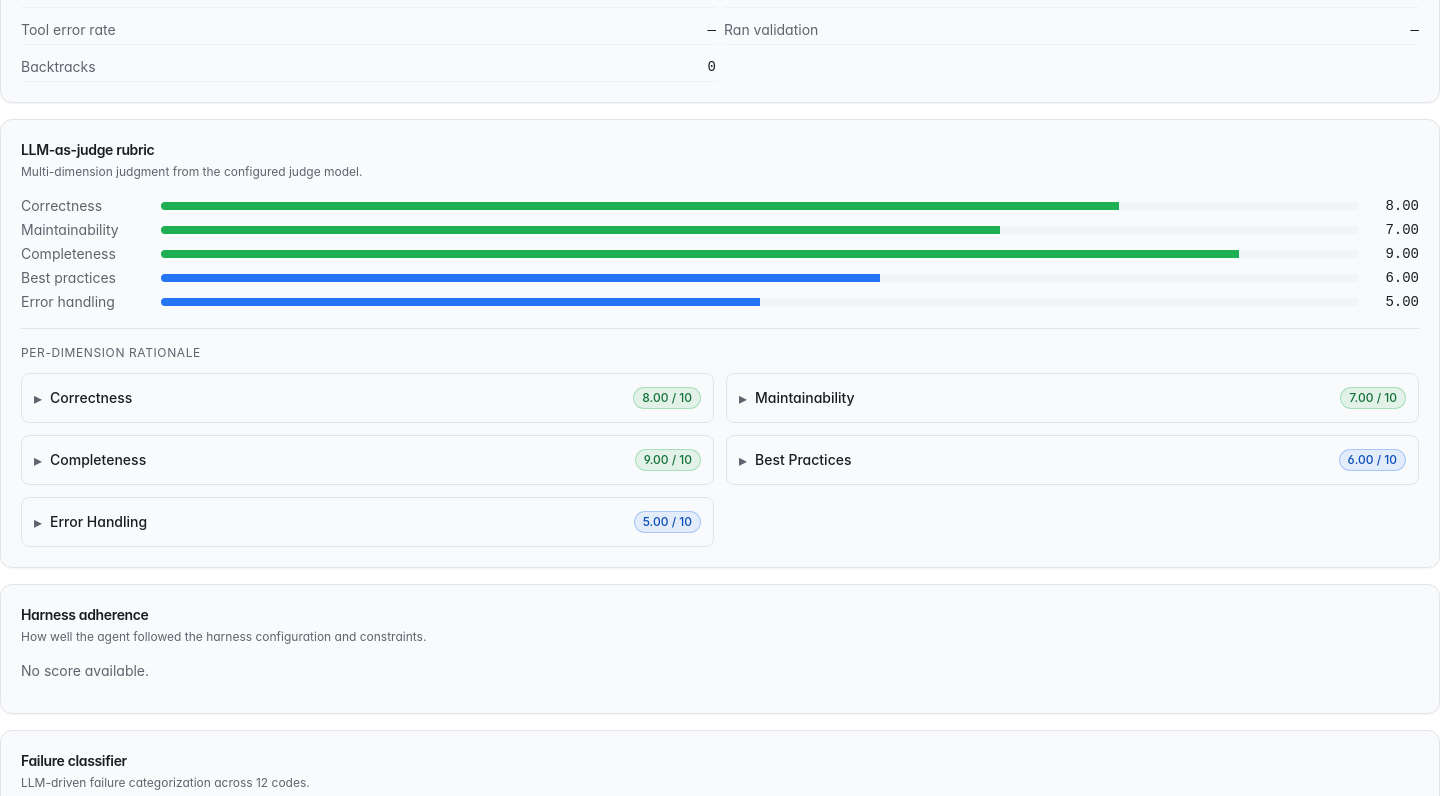
Test: RunGradingPage › shows rationale text after expanding an accordion item
(page scrolled)
# Rationale is hidden behind accordion — click the Correctness button to expand it.
Click the button "▸ Correctness 8.00 / 10" at (91, 398), box [22,374,713,422]
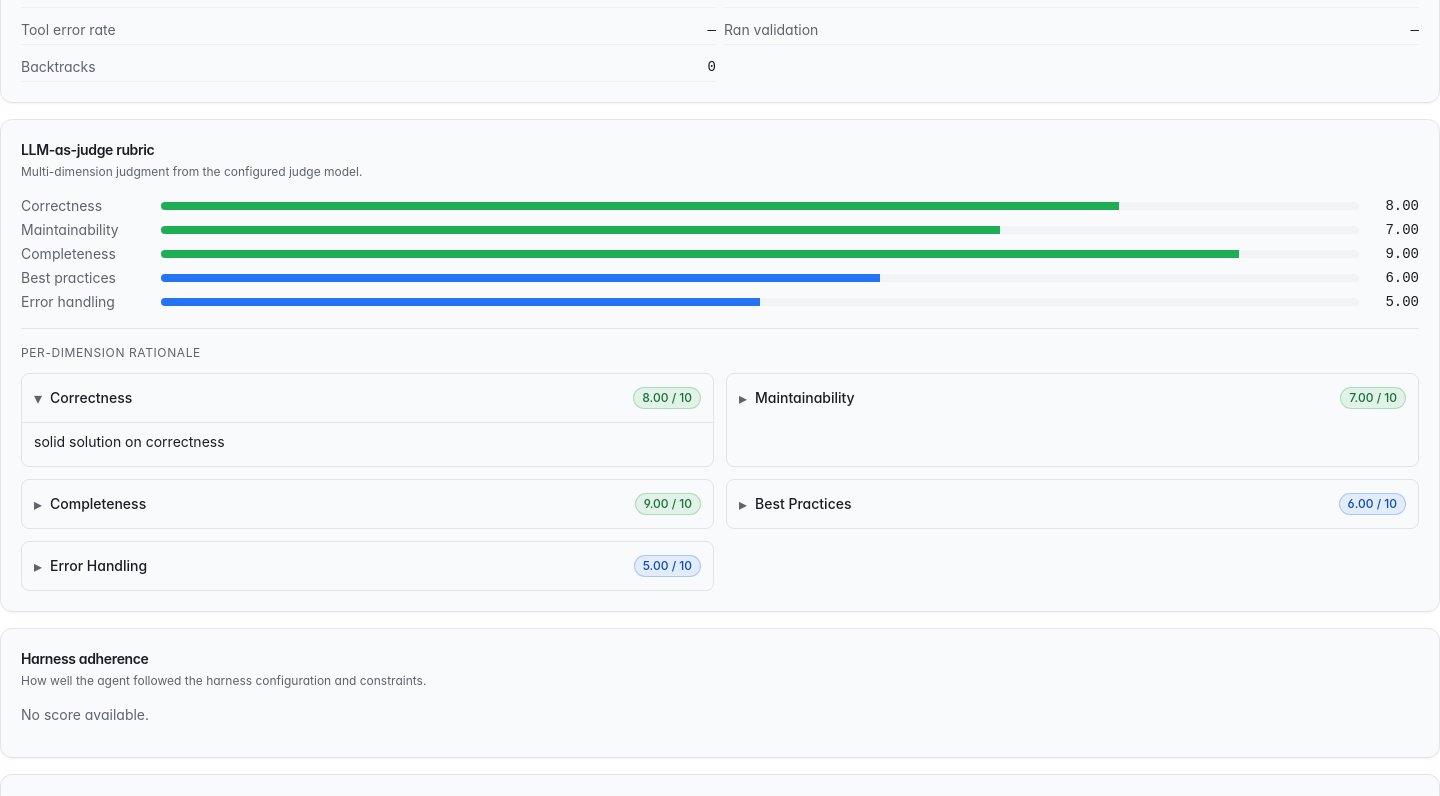
Check: the text "solid solution on correctness" is shown, box [34,433,225,450]
